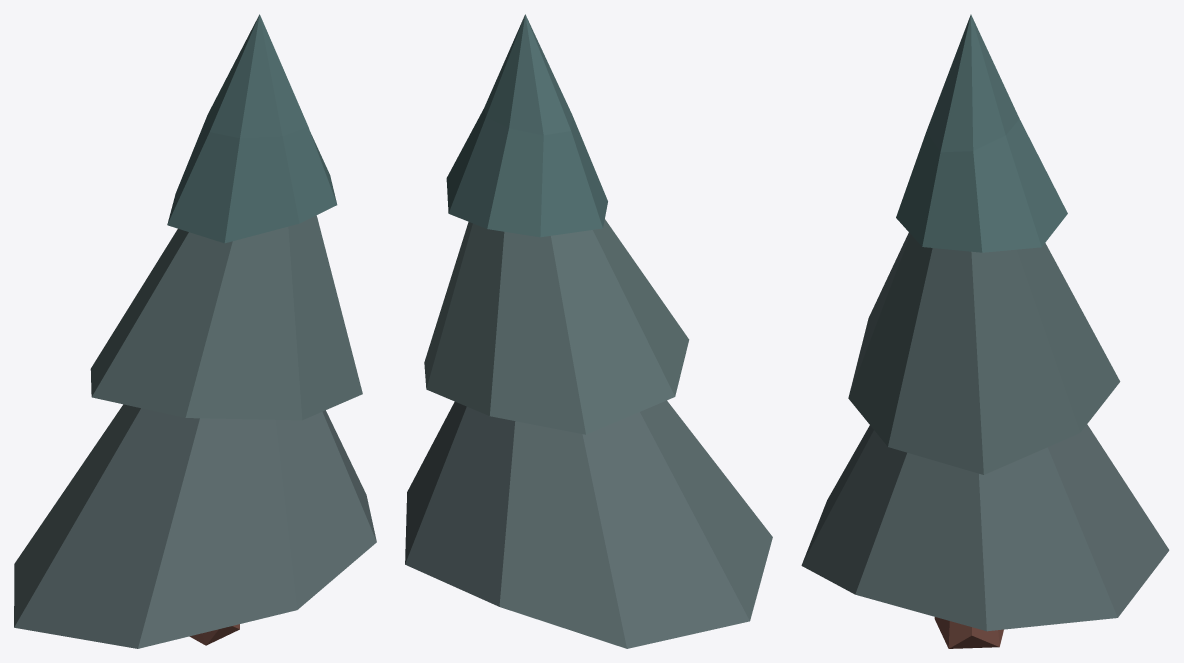
The model's file is spruce3.fbx.
3 renders of one model, left to right at view 1: azimuth 30°, elevation 25°; view 2: azimuth 150°, elevation 25°; view 3: azimuth 270°, elevation 25°, orthographic. The views are drawn at different scales.
Visible parts, largest first — view 1: Cone.012; view 2: Cone.012; view 3: Cone.012.
Part boxes in pixels (bbox=[...]): Cone.012: bbox=[14, 14, 376, 648]; Cone.012: bbox=[405, 14, 772, 648]; Cone.012: bbox=[801, 14, 1169, 648].
Bounding box in the file's own units: 672 × 1112 × 561.
1 material, 1 textured.
